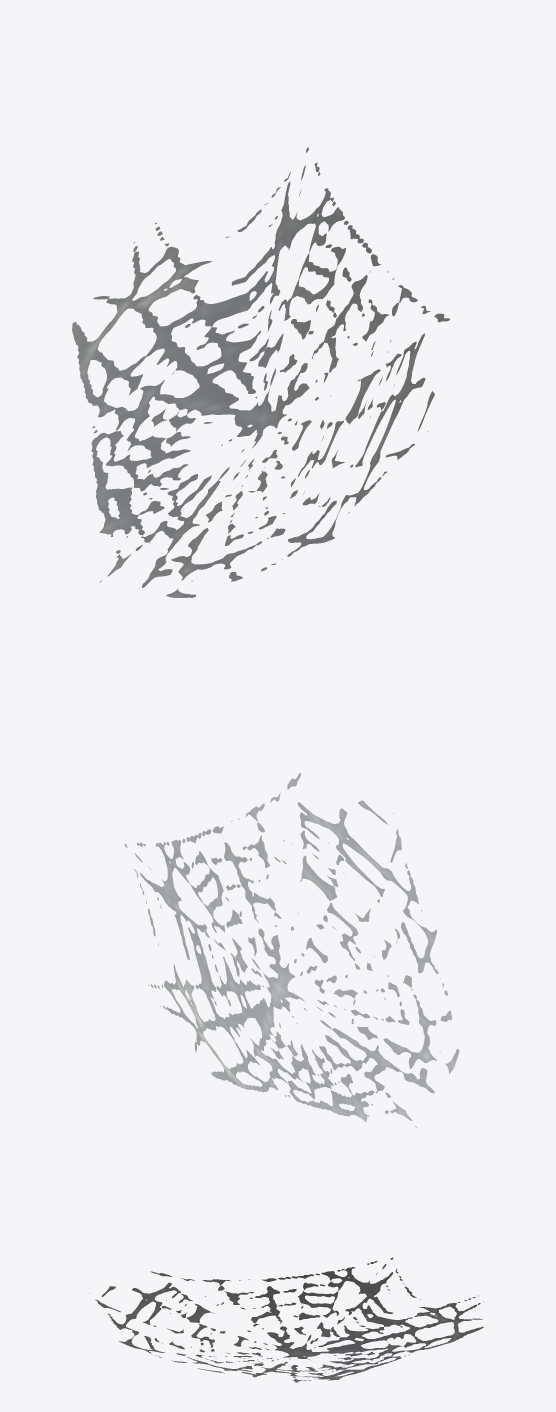
Rendered from dcfx_zzw_02.FBX.
The picture shows the model from 3 angles, top to bottom: view 1: azimuth 30°, elevation 25°; view 2: azimuth 150°, elevation 25°; view 3: azimuth 270°, elevation 25°; orthographic projection. The views are drawn at different scales.
Parts seen in each view (by area): view 1: dcfx_zzw_02; view 2: dcfx_zzw_02; view 3: dcfx_zzw_02.
Part boxes in pixels (left/top/right/bottom): dcfx_zzw_02: left=72, top=147, right=449, bottom=597; dcfx_zzw_02: left=124, top=773, right=459, bottom=1127; dcfx_zzw_02: left=90, top=1257, right=483, bottom=1382.
Bounding box in the file's own units: 260 × 293 × 474.
